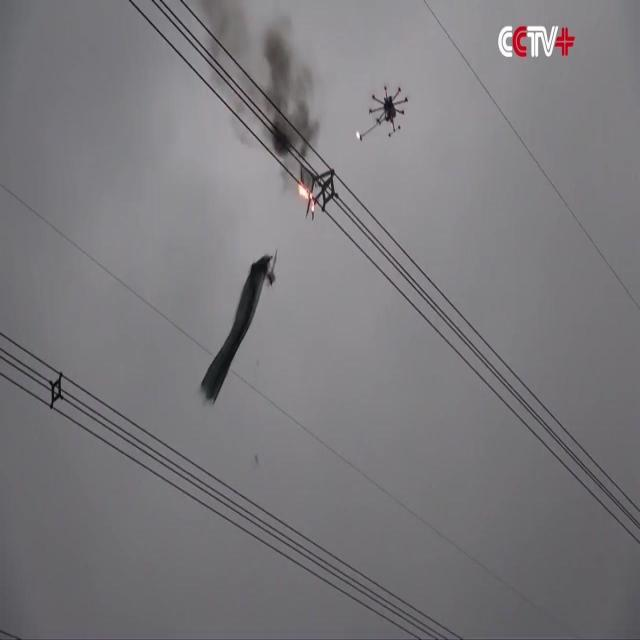UAV: (360, 86, 408, 142)
